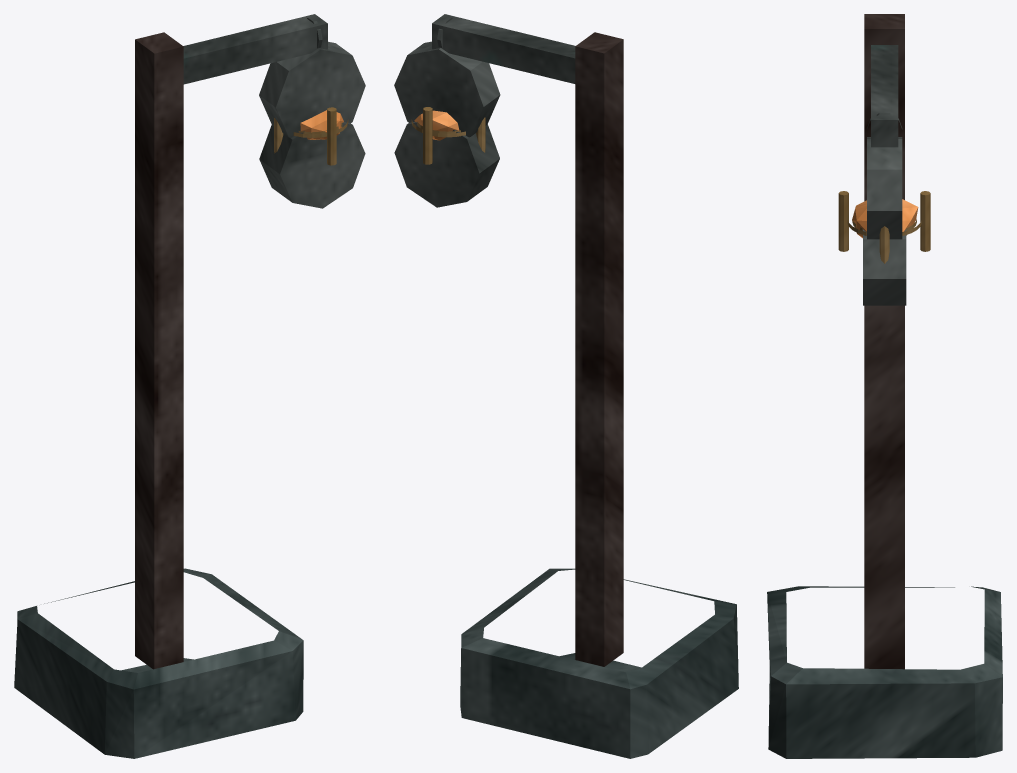
The model's file is 0706_lantern_post_06.glb.
3 renders of one model, left to right at view 1: azimuth 30°, elevation 25°; view 2: azimuth 150°, elevation 25°; view 3: azimuth 270°, elevation 25°, orthographic. The views are drawn at different scales.
Visible parts, largest first — view 1: wood_dark, stone_dark, iron, brass; view 2: wood_dark, stone_dark, iron, brass, amber; view 3: stone_dark, wood_dark, iron, brass, amber.
Boxes of the visible parts, bbox=[...] form: wood_dark: bbox=[135, 32, 183, 669]; stone_dark: bbox=[14, 568, 303, 758]; iron: bbox=[183, 14, 365, 208]; brass: bbox=[274, 107, 348, 165]; wood_dark: bbox=[575, 32, 623, 666]; stone_dark: bbox=[460, 568, 738, 758]; iron: bbox=[394, 14, 575, 207]; brass: bbox=[411, 107, 485, 164]; amber: bbox=[414, 110, 459, 140]; stone_dark: bbox=[767, 586, 1002, 758]; wood_dark: bbox=[864, 14, 904, 669]; iron: bbox=[863, 45, 906, 305]; brass: bbox=[838, 191, 930, 263]; amber: bbox=[852, 199, 918, 238].
Bounding box in the file's own units: 1.31 × 2.82 × 0.8679.
Materials: 5 (5 with a texture image).
